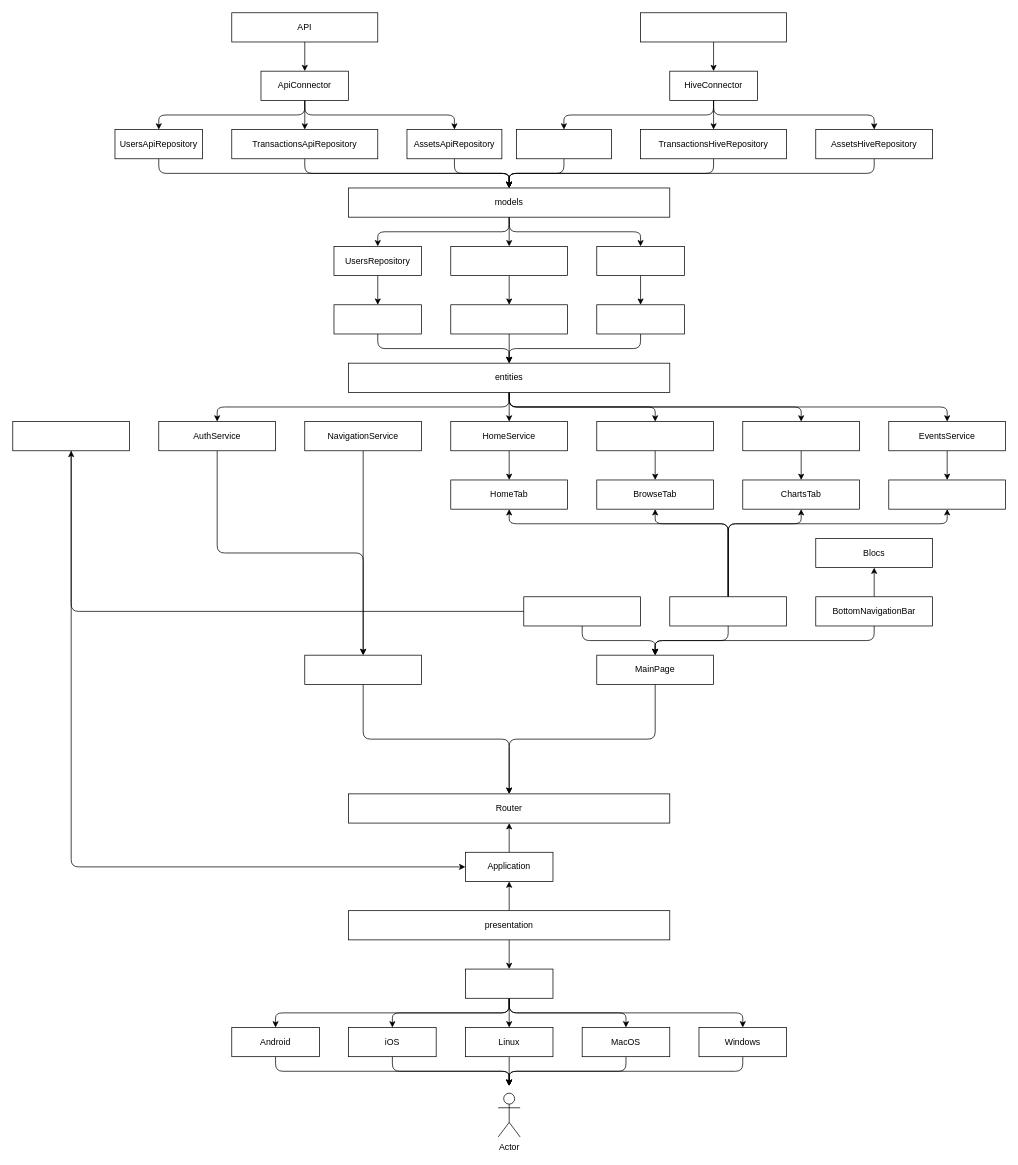
Some shapes in this 1018 by 1165 pixel diagram are drawn without their labels. The shapes that lost their labels are listed below. From the top down, each one's centre as x and y in pixels, then its label:
point 713,27: HiveStorage
point 563,144: UsersHiveRepository
point 509,261: TransactionsRepository
point 640,261: AssetsRepository
point 377,319: UsersInteractor
point 509,319: TransactionsInteractor
point 640,319: AssetsInteractor
point 71,436: ThemeService
point 655,436: BrowseService
point 801,436: ChartsService
point 947,494: EventsTab
point 582,611: ProfileMenu
point 728,611: CurrentTab
point 363,669: AuthPage
point 509,983: libs
